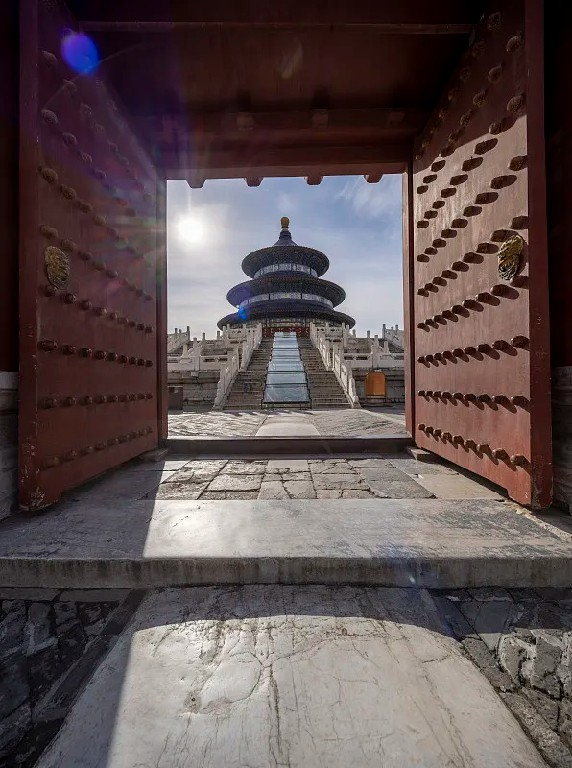Heaven: (216, 216, 357, 337)
